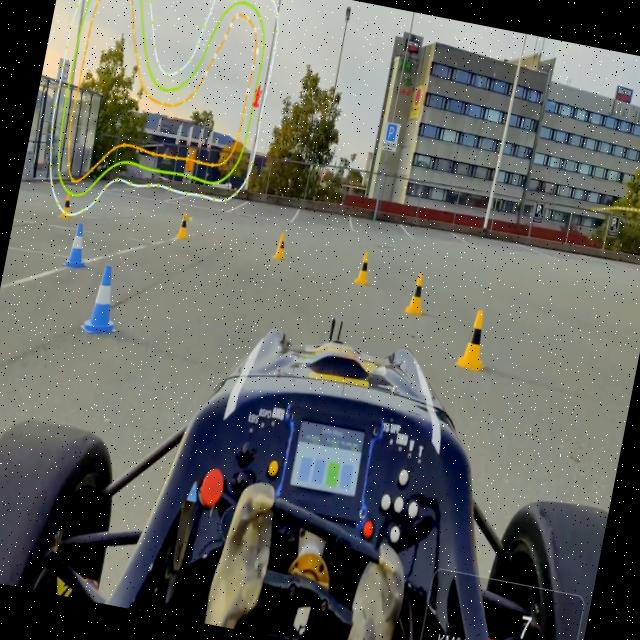blue_cone: (82, 261, 127, 336), (64, 218, 95, 272)
yellow_cone: (456, 306, 496, 374), (406, 270, 430, 318), (355, 249, 374, 287), (58, 188, 75, 222), (176, 210, 193, 242), (274, 233, 288, 263)
